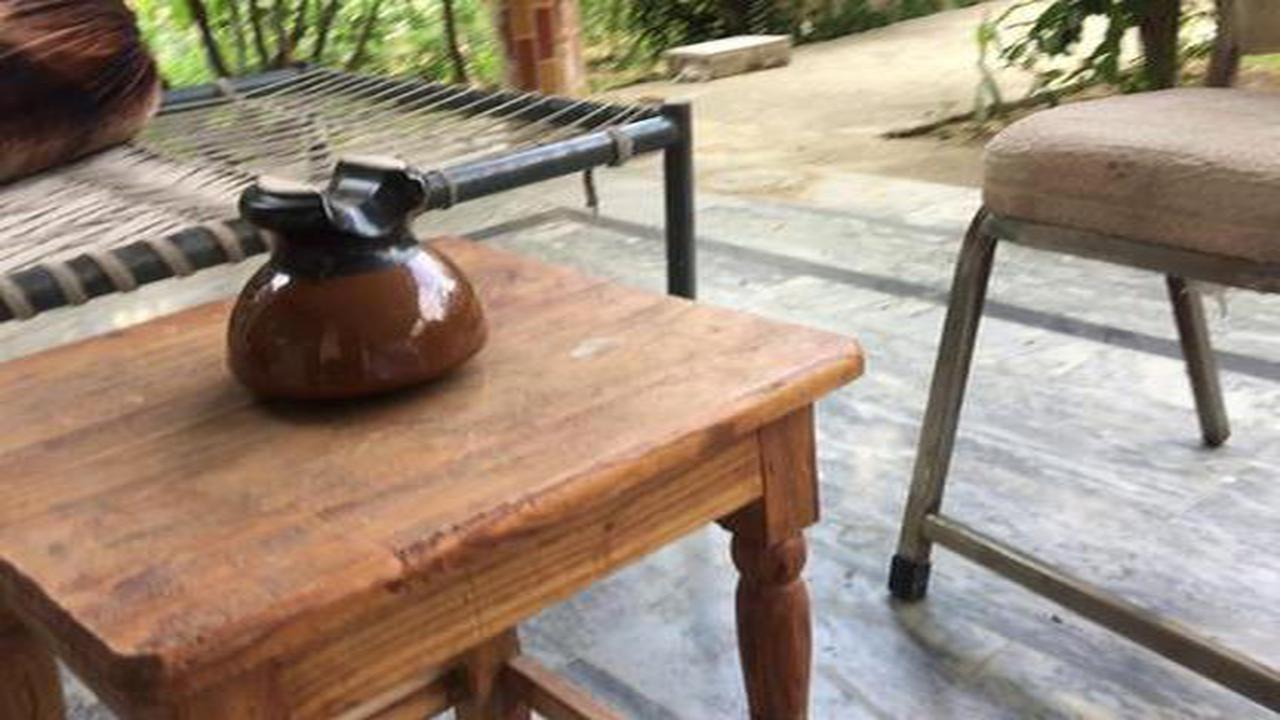insulator_pin: (210, 144, 499, 421)
